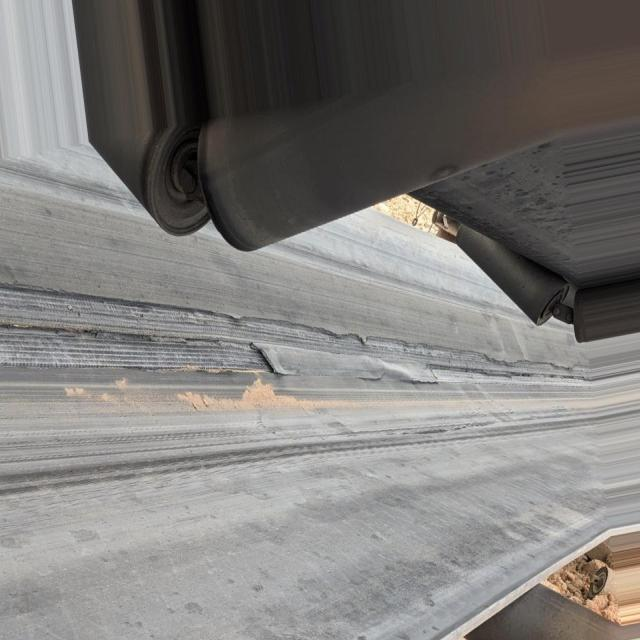Roller: (201, 80, 462, 258), (452, 220, 570, 324), (93, 142, 209, 238), (578, 275, 638, 345)
Tear: (2, 285, 640, 388)
